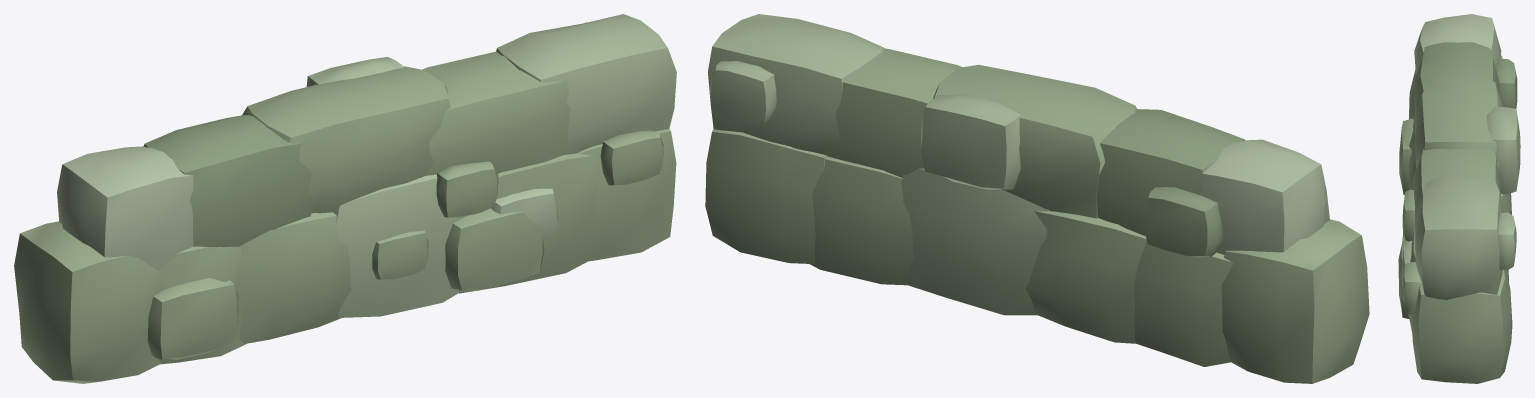
File: fagyal-soveny2-6m.glb
The picture shows the model from 3 angles, left to right: view 1: azimuth 30°, elevation 25°; view 2: azimuth 150°, elevation 25°; view 3: azimuth 270°, elevation 25°; orthographic projection. The views are drawn at different scales.
Parts seen in each view (by area): view 1: blokk-also-1, blokk-felso-3, blokk-felso-5, blokk-felso-2, blokk-felso-1, blokk-felso-4, blokk-also-3, blokk-also-4, blokk-also-5, blokk-also-6, dudor-5, dudor-7 (+6 smaller); view 2: blokk-also-1, blokk-also-4, blokk-felso-3, blokk-felso-5, blokk-also-6, blokk-also-3, blokk-felso-1, blokk-also-5, blokk-felso-4, blokk-felso-2, blokk-also-2, dudor-8 (+2 smaller); view 3: blokk-felso-5, blokk-also-6, blokk-felso-3, blokk-felso-2, blokk-felso-4, blokk-felso-1, dudor-8, dudor-6, dudor-9, dudor-7, dudor-2, dudor-3 (+6 smaller).
Boxes of the visible parts, x1=… form: blokk-also-1: x1=14, y1=221, x2=163, y2=383; blokk-felso-3: x1=242, y1=66, x2=450, y2=213; blokk-felso-5: x1=496, y1=14, x2=676, y2=150; blokk-felso-2: x1=143, y1=115, x2=312, y2=247; blokk-felso-1: x1=57, y1=146, x2=193, y2=269; blokk-felso-4: x1=422, y1=51, x2=581, y2=175; blokk-also-3: x1=238, y1=212, x2=351, y2=343; blokk-also-4: x1=333, y1=174, x2=464, y2=317; blokk-also-5: x1=459, y1=153, x2=598, y2=293; blokk-also-6: x1=578, y1=129, x2=676, y2=261; dudor-5: x1=445, y1=208, x2=544, y2=290; dudor-7: x1=147, y1=278, x2=238, y2=359; blokk-also-1: x1=1221, y1=219, x2=1369, y2=383; blokk-also-4: x1=901, y1=168, x2=1048, y2=315; blokk-felso-3: x1=933, y1=64, x2=1137, y2=218; blokk-felso-5: x1=708, y1=14, x2=884, y2=154; blokk-also-6: x1=705, y1=128, x2=827, y2=264; blokk-also-3: x1=1025, y1=211, x2=1146, y2=343; blokk-felso-1: x1=1200, y1=139, x2=1329, y2=254; blokk-also-5: x1=810, y1=156, x2=913, y2=285; blokk-felso-4: x1=823, y1=48, x2=962, y2=177; blokk-felso-2: x1=1097, y1=109, x2=1244, y2=235; blokk-also-2: x1=1133, y1=242, x2=1232, y2=366; dudor-8: x1=921, y1=94, x2=1020, y2=189; blokk-felso-5: x1=1415, y1=174, x2=1503, y2=300; blokk-also-6: x1=1412, y1=269, x2=1512, y2=383; blokk-felso-3: x1=1415, y1=74, x2=1503, y2=170; blokk-felso-2: x1=1413, y1=42, x2=1500, y2=135; blokk-felso-4: x1=1413, y1=149, x2=1501, y2=233; blokk-felso-1: x1=1414, y1=14, x2=1501, y2=73; dudor-8: x1=1486, y1=106, x2=1520, y2=194; dudor-6: x1=1498, y1=212, x2=1516, y2=269; dudor-9: x1=1495, y1=59, x2=1517, y2=108; dudor-7: x1=1399, y1=118, x2=1413, y2=194; dudor-2: x1=1402, y1=262, x2=1422, y2=314; dudor-3: x1=1402, y1=189, x2=1414, y2=241.
Bounding box in the file's own units: 6.36 × 2.11 × 1.34.
